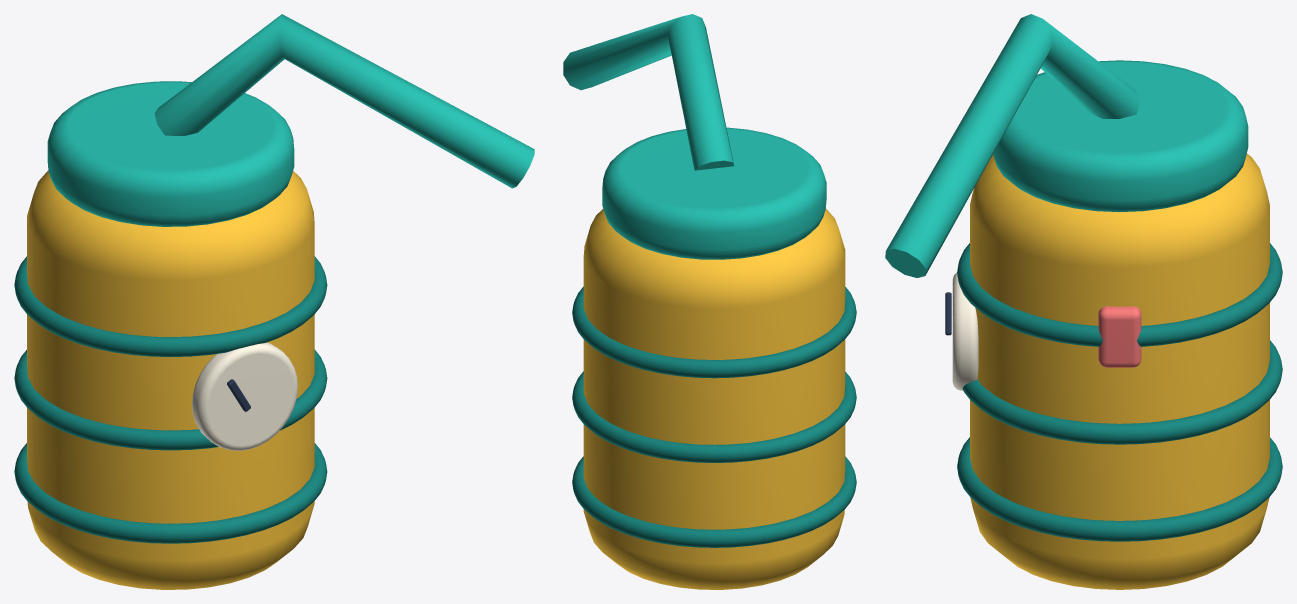
File: SiphonVacuum.fbx
3 views of the same model, side by side, from view 1: azimuth 30°, elevation 25°; view 2: azimuth 150°, elevation 25°; view 3: azimuth 270°, elevation 25° (orthographic). The views are drawn at different scales.
Parts seen in each view (by area): view 1: SiphonVacuum mesh; view 2: SiphonVacuum mesh; view 3: SiphonVacuum mesh.
Boxes of the visible parts, <box> form: SiphonVacuum mesh: <box>14,14,534,589</box>; SiphonVacuum mesh: <box>563,14,856,589</box>; SiphonVacuum mesh: <box>885,14,1282,589</box>.
Bounding box in the file's own units: 0.2234 × 0.2906 × 0.1855.
